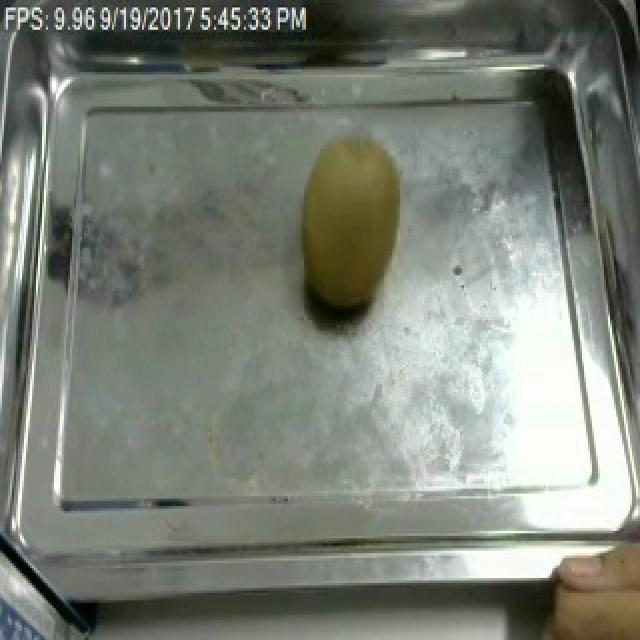Fruit: (288, 124, 418, 325)
